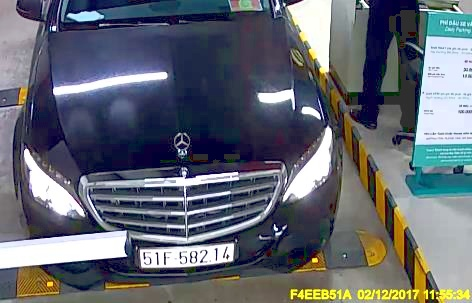plate: (139, 242, 236, 266)
